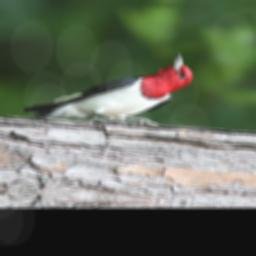Woodpecker: (21, 40, 200, 134)
